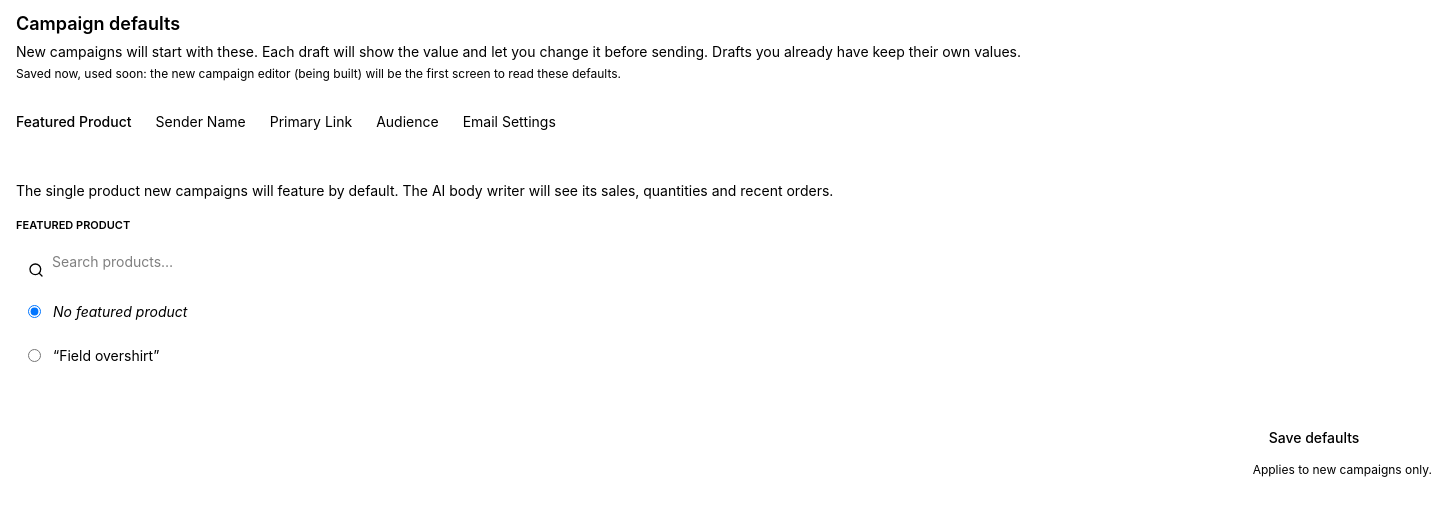
Test: DefaultsForm › labels sample audiences and the only footer source honestly
The image size is (1444, 527).
Click the tab "Email Settings" at (509,122), box [463,102,556,142]
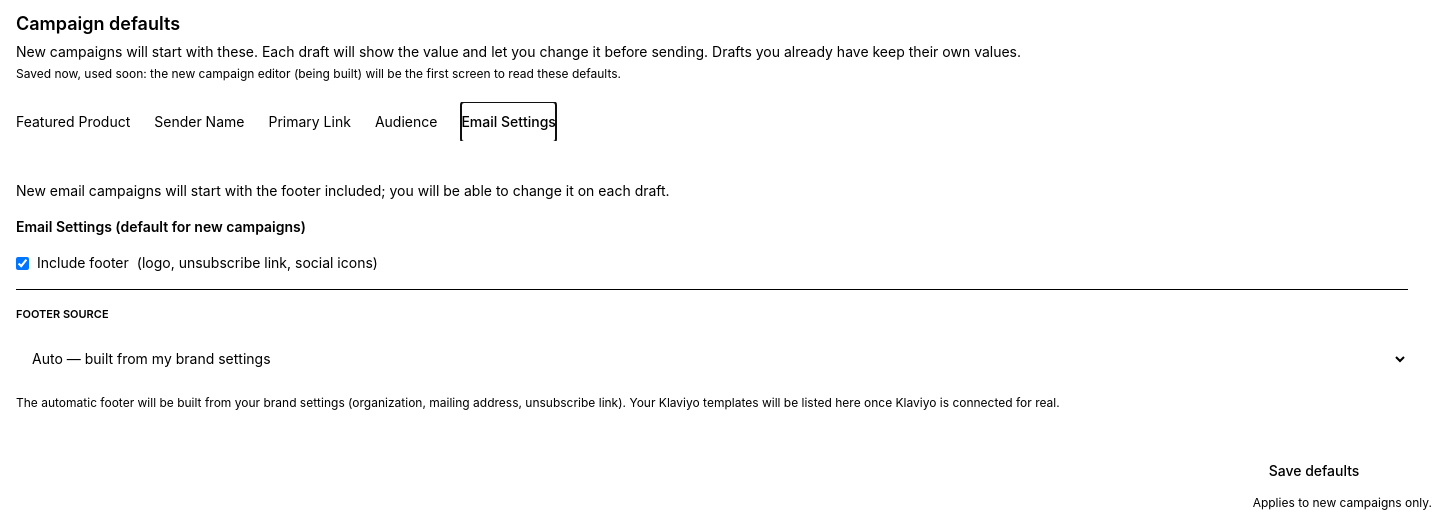
Result: the text "once Klaviyo is connected for real" is shown at [16,394,1060,410]
